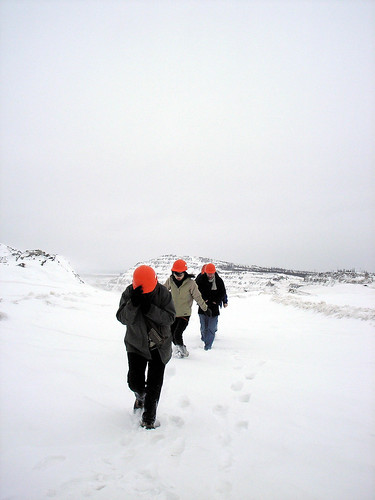person hardhat: (115, 266, 174, 427), (169, 259, 198, 369), (197, 256, 228, 351)
